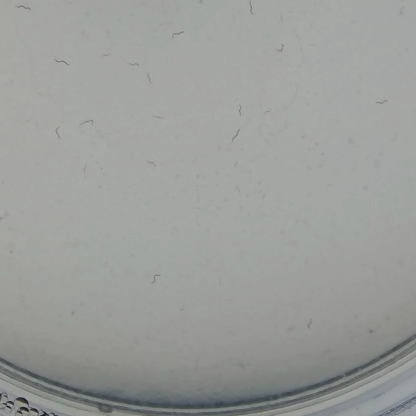worm: (233, 102, 255, 121), (144, 270, 165, 287), (51, 56, 74, 70), (369, 94, 392, 108), (272, 40, 290, 56), (163, 30, 191, 40), (230, 126, 243, 147), (244, 0, 258, 19), (12, 2, 36, 13), (52, 123, 65, 142), (0, 207, 12, 226), (151, 112, 169, 124), (140, 74, 161, 84), (77, 117, 97, 127), (396, 3, 409, 18), (305, 313, 314, 334), (80, 162, 91, 179), (126, 60, 144, 69), (145, 158, 158, 170), (99, 50, 114, 59)
